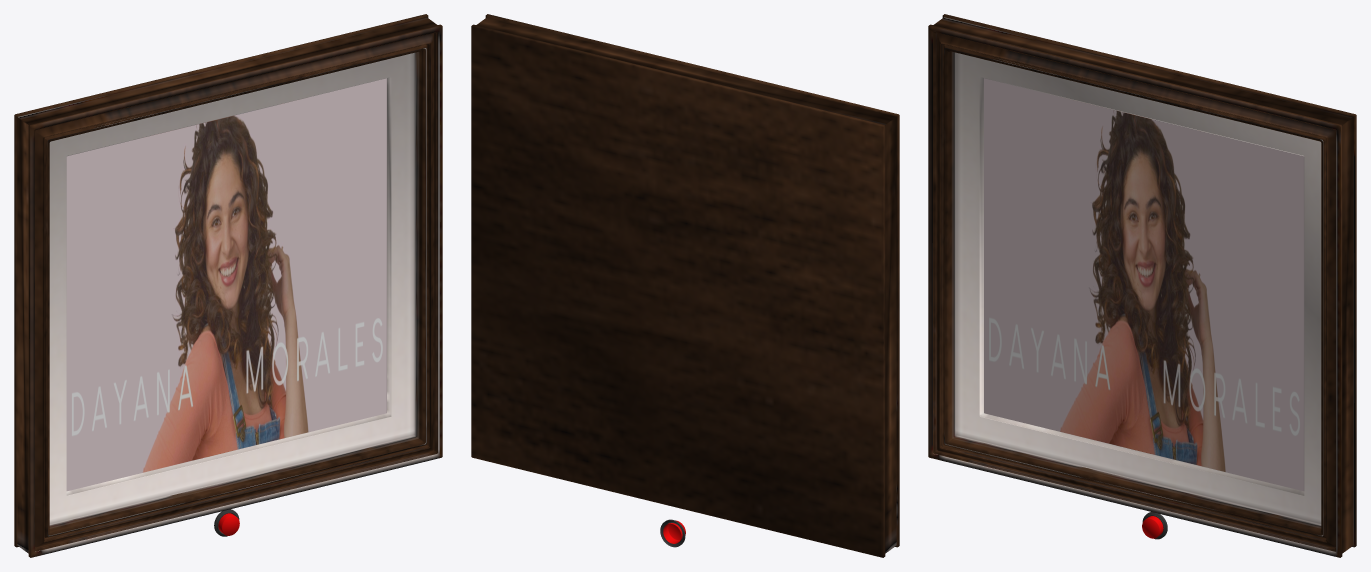
3 renders of one model, left to right at view 1: azimuth 30°, elevation 25°; view 2: azimuth 150°, elevation 25°; view 3: azimuth 330°, elevation 25°, orthographic.
Parts seen in each view (by area): view 1: Bild_0, Frame_1; view 2: Frame_1; view 3: Bild_0, Frame_1.
Boxes of the visible parts, <box> form: Bild_0: <box>66,78,386,491</box>; Frame_1: <box>14,14,442,557</box>; Frame_1: <box>471,14,899,557</box>; Bild_0: <box>984,78,1304,491</box>; Frame_1: <box>928,14,1356,557</box>.
Bounding box in the file's own units: 50.4 × 55.13 × 3.63.
Materials: 4 (3 with a texture image).
